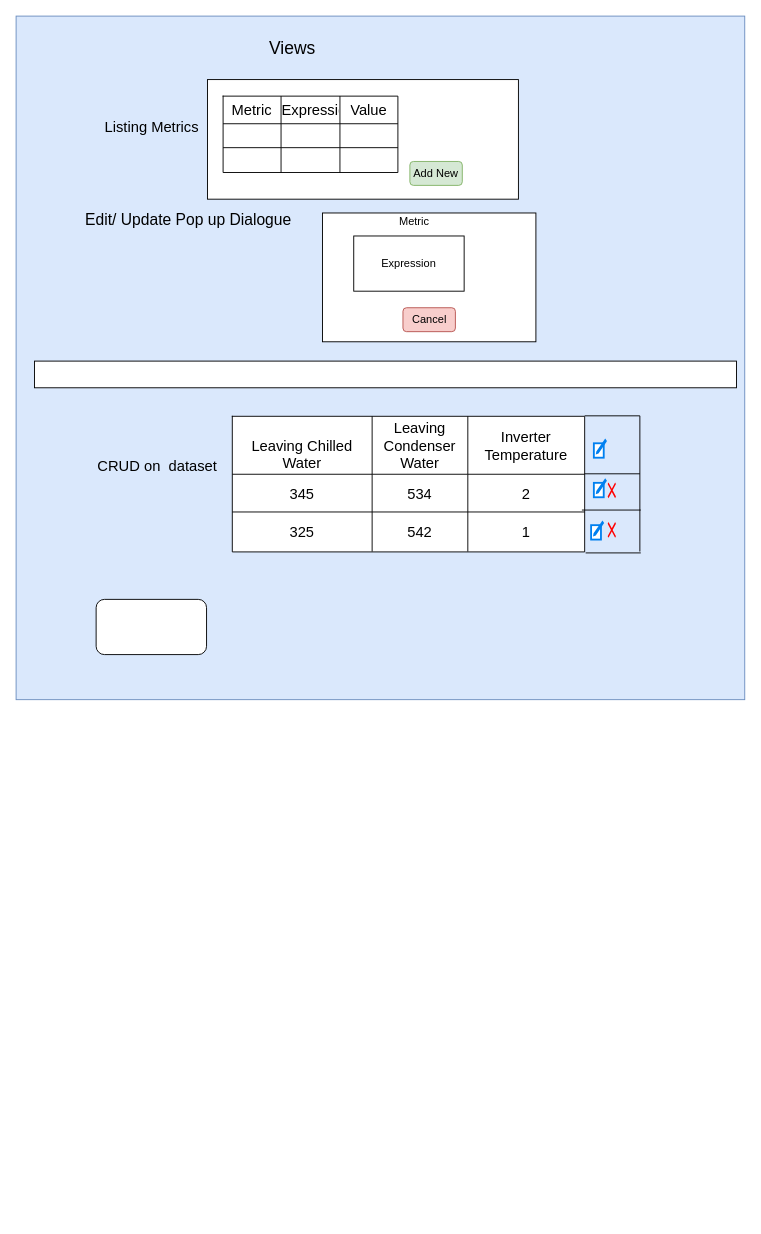
Some shapes in this 761 by 1234 pixel diagram are drawn without their labels. Here are the shapes that lost their labels. From the top down, the centre of each, then its label:
At (x=385, y=374): "Scope for future".
At (x=151, y=626): "Login/ Sign up view".
